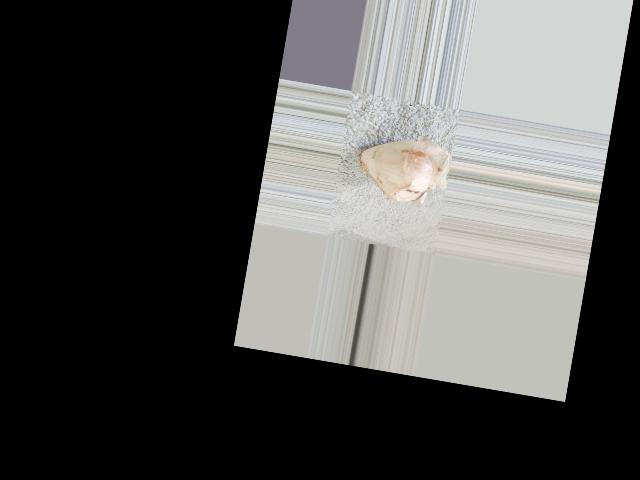onion: (351, 136, 434, 207)
